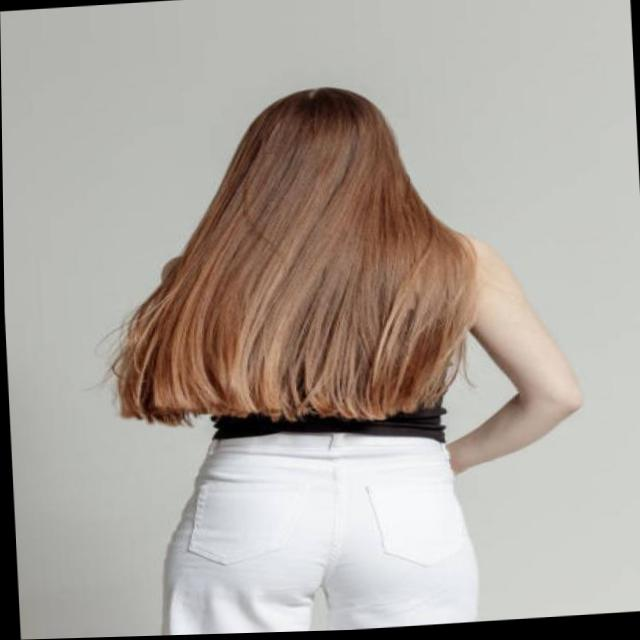no helmet: (220, 84, 405, 245)
